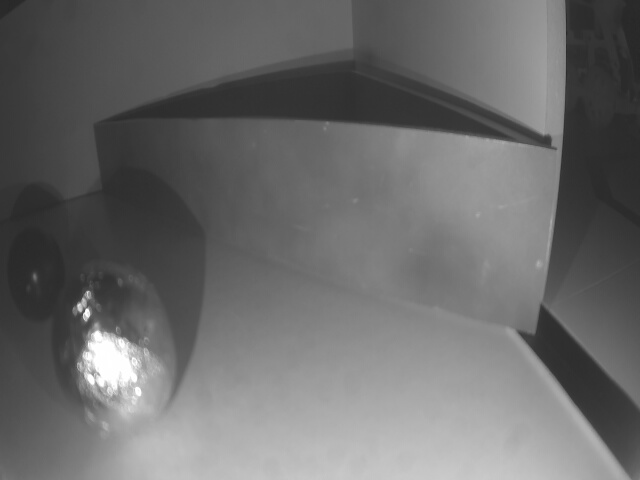Dead: (8, 228, 66, 326)
Green: (93, 117, 558, 337)
Live: (50, 261, 179, 442)
